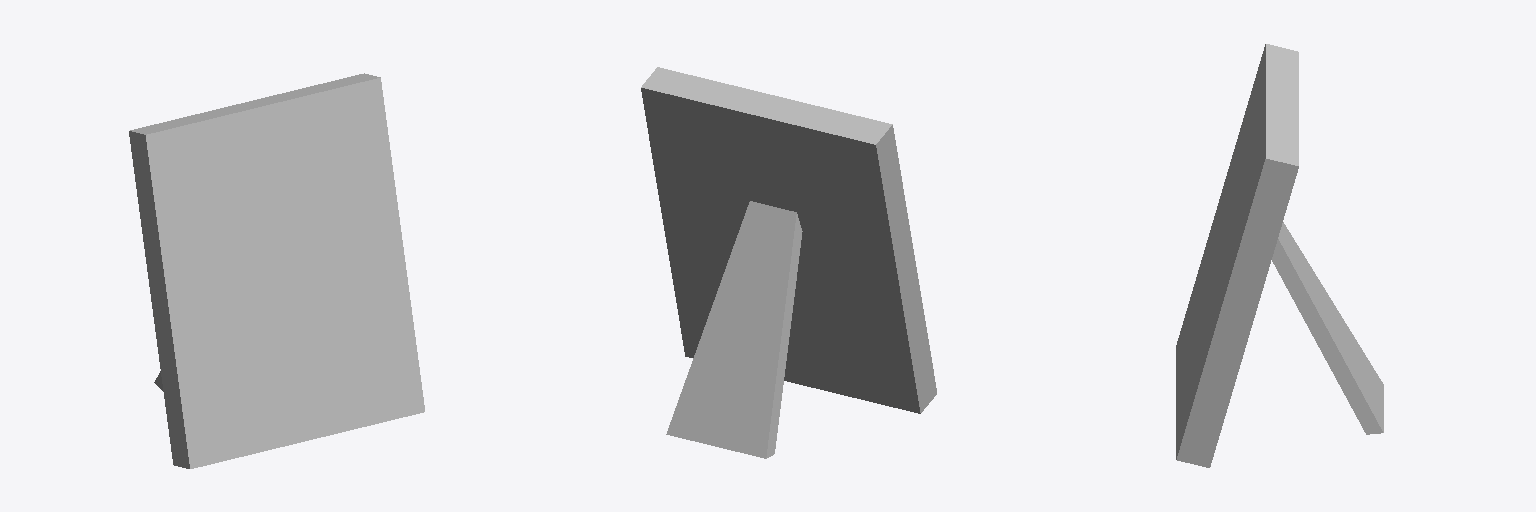
File: SM_Portaretrato.obj
The picture shows the model from 3 angles: view 1: azimuth 30°, elevation 25°; view 2: azimuth 150°, elevation 25°; view 3: azimuth 270°, elevation 25°; orthographic projection.
Visible parts, largest first — view 1: Cuadro; view 2: Cuadro; view 3: Cuadro.
Part boxes in pixels (bbox=[...]): Cuadro: bbox=[129, 73, 424, 468]; Cuadro: bbox=[641, 67, 936, 458]; Cuadro: bbox=[1176, 44, 1383, 467].
Bounding box in the file's own units: 16.98 × 21.38 × 12.96.